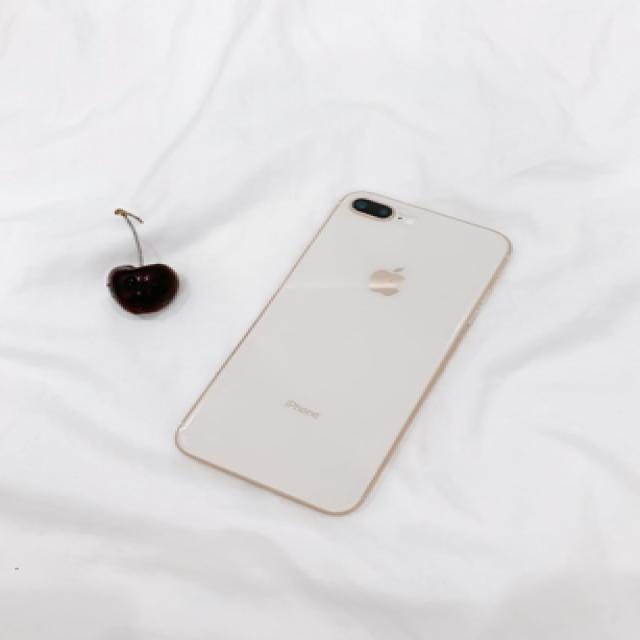cellphone: (173, 189, 511, 515)
